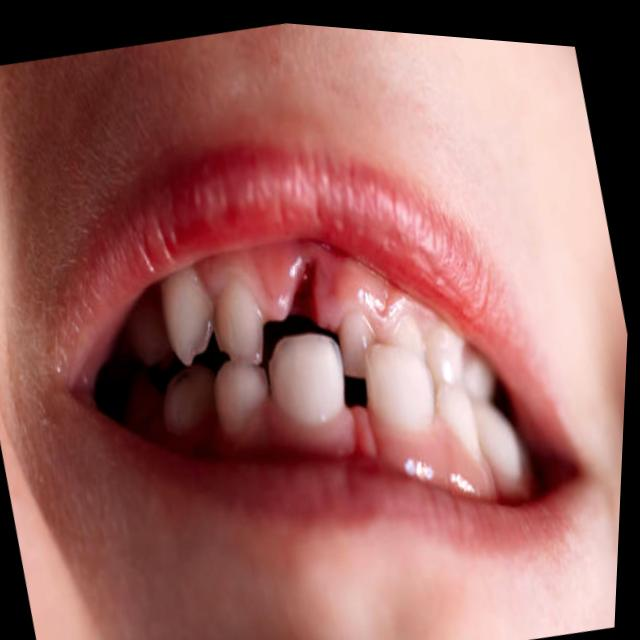hypodontia: (128, 246, 441, 368), (301, 370, 390, 455)
